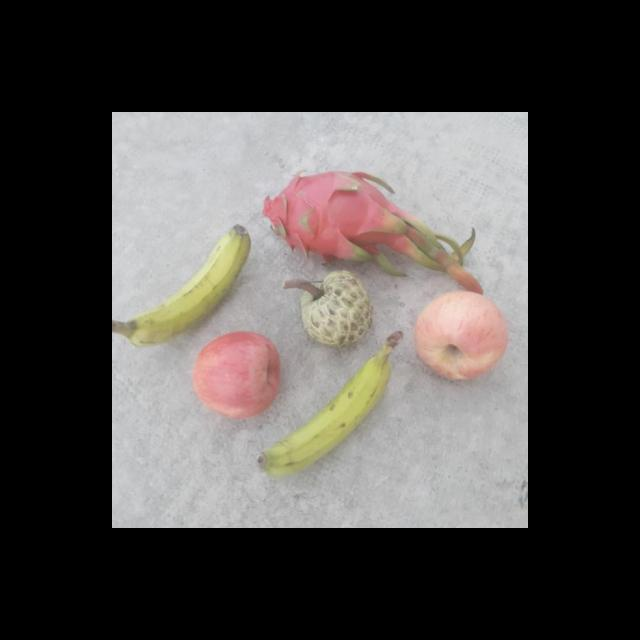Sakya fruit: (283, 268, 375, 346)
apple: (183, 330, 281, 431), (412, 288, 508, 382)
banana: (255, 331, 406, 478), (112, 224, 254, 346), (261, 167, 400, 267)
